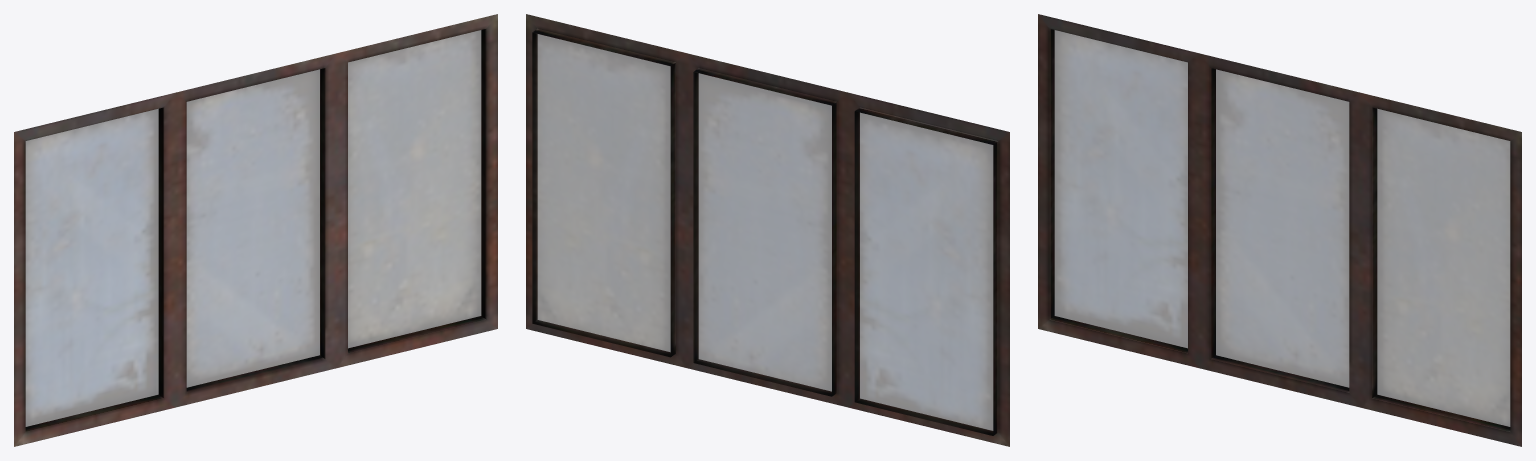
The model's file is T_Window_02.FBX.
The picture shows the model from 3 angles, left to right: view 1: azimuth 30°, elevation 25°; view 2: azimuth 150°, elevation 25°; view 3: azimuth 330°, elevation 25°; orthographic projection.
Visible parts, largest first — view 1: T_Window_02; view 2: T_Window_02; view 3: T_Window_02.
Part boxes in pixels (x1=…): T_Window_02: x1=14, y1=14, x2=497, y2=446; T_Window_02: x1=526, y1=14, x2=1009, y2=446; T_Window_02: x1=1038, y1=14, x2=1521, y2=446.
Size of the model in its own units: 264 by 164 by 5.
